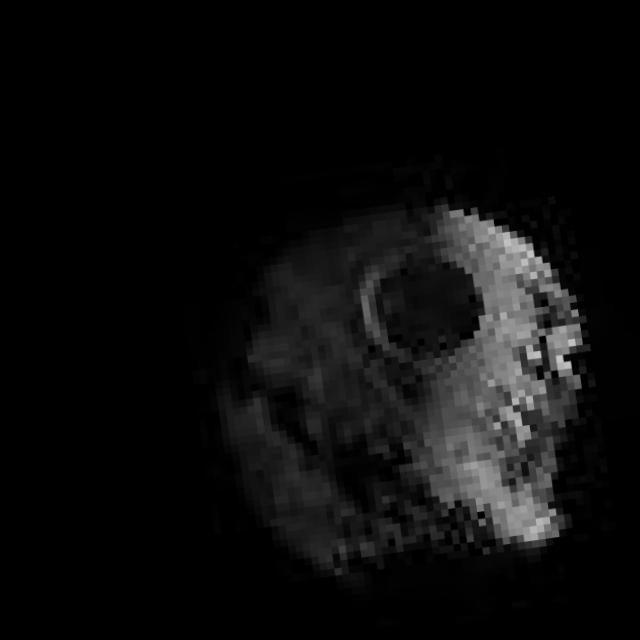Death Star: (184, 165, 625, 604)
